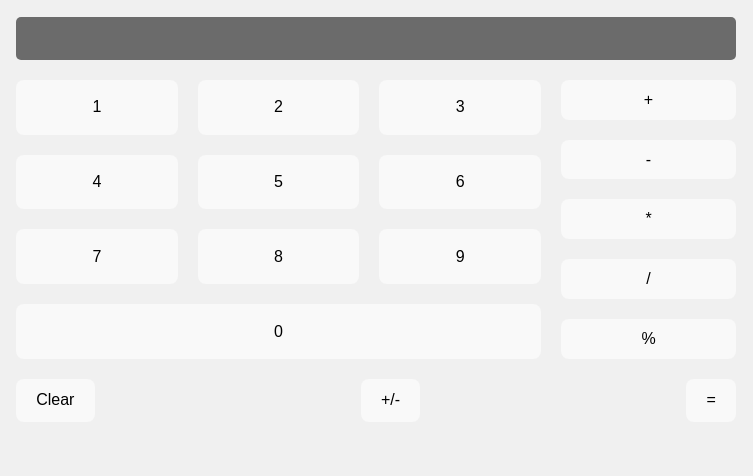
it: Calculator component › clears the display when the clear button is clicked
Click the button "1". click: (97, 107)
box: [16, 80, 178, 135]
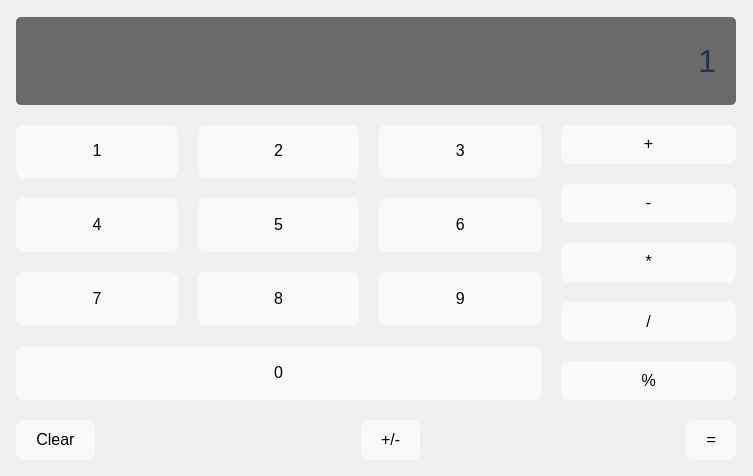
Click the button "Clear". click: (55, 440)
box: [16, 420, 95, 460]
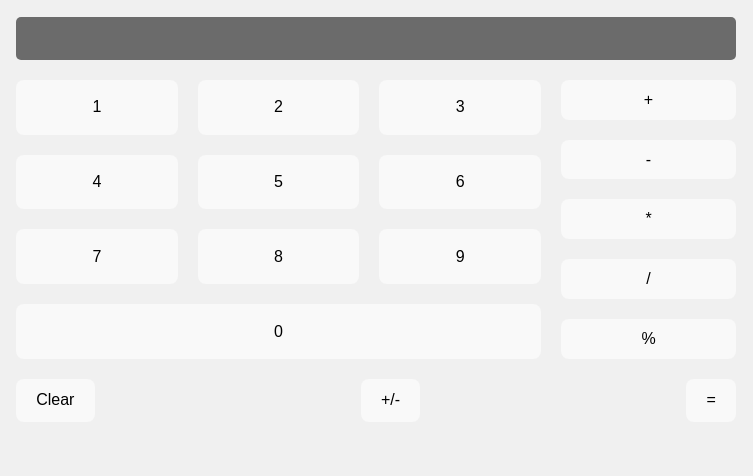
Check: the element with test id "result" is empty, box [16, 16, 736, 60]
